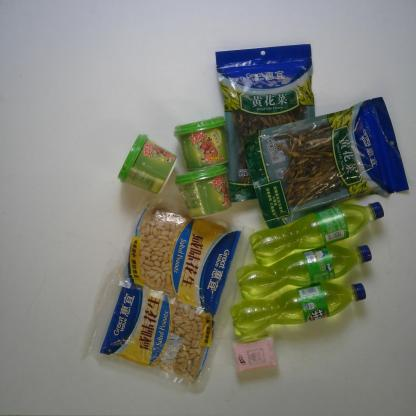Dried Food: (242, 95, 411, 229), (214, 42, 317, 204)
Dried Fruit: (110, 193, 255, 324), (79, 273, 227, 393)
Drink: (248, 198, 385, 266), (235, 241, 373, 301), (228, 280, 367, 339)
Instant Drink: (116, 133, 179, 195), (174, 162, 232, 220), (172, 114, 230, 172)
Tissue: (230, 331, 278, 374)
